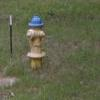Hydrant: (19, 9, 50, 75)
